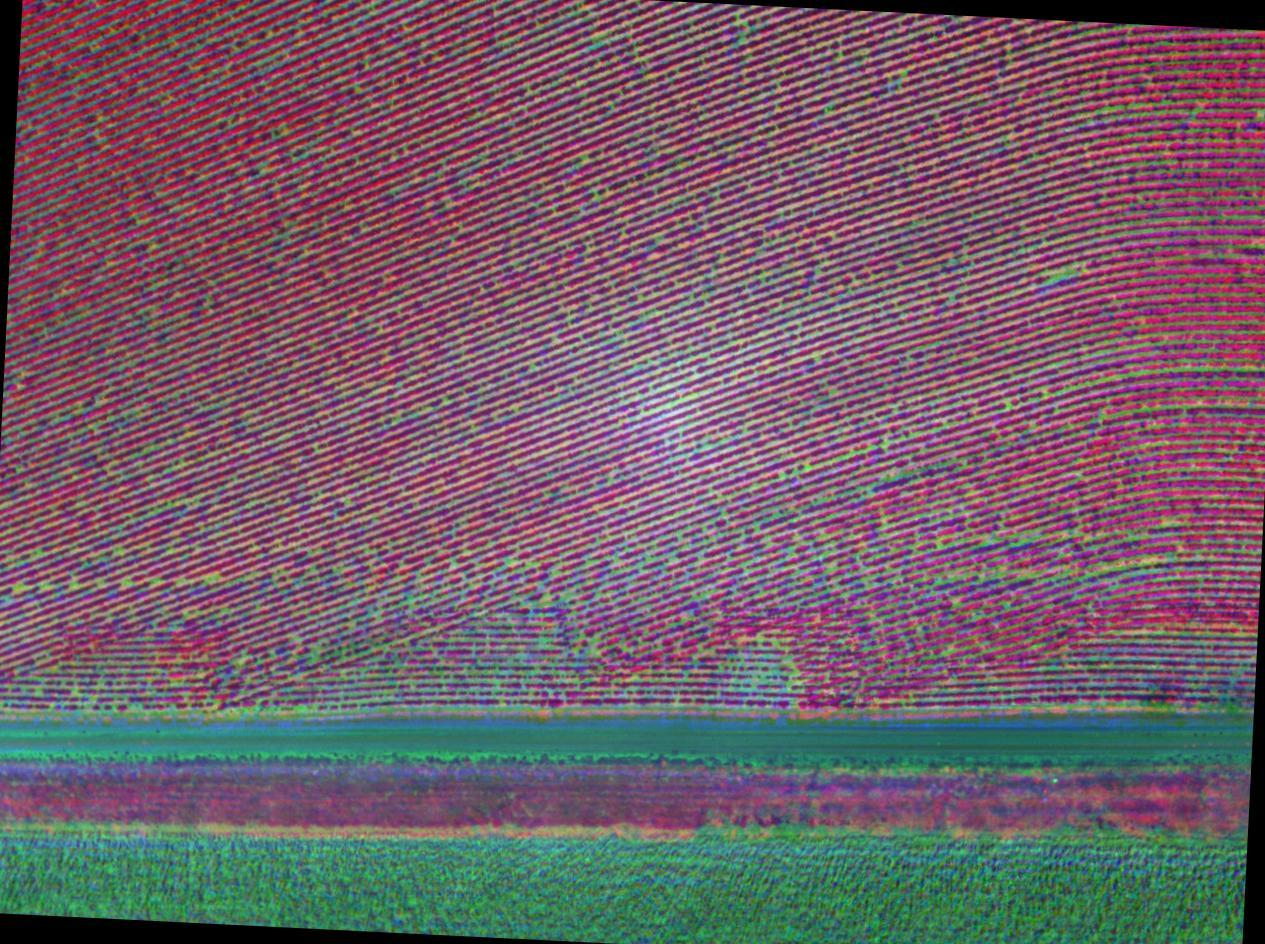dc: (210, 576, 217, 582), (507, 559, 513, 565), (805, 465, 810, 470)
